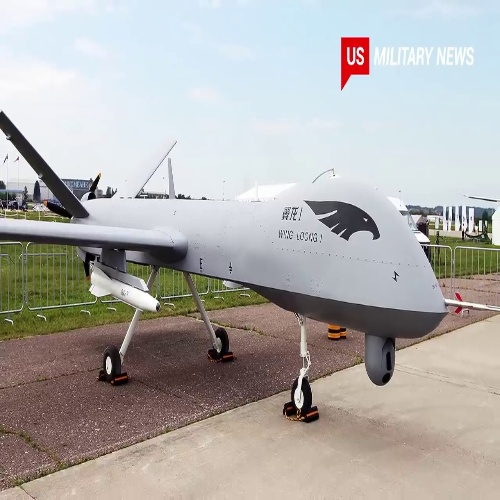uav273: (1, 108, 456, 425)
